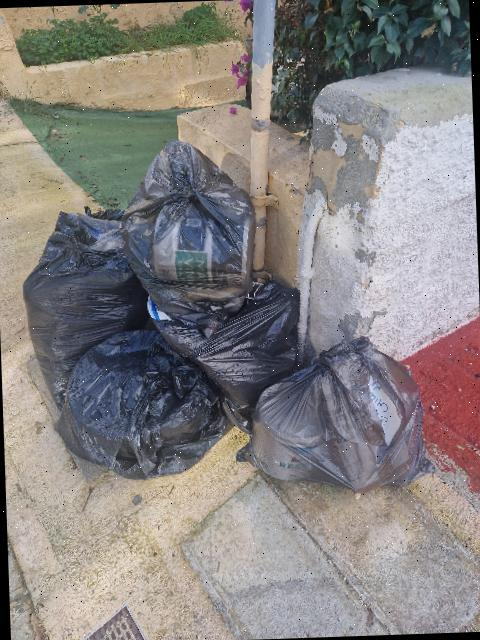Mixed -Black-: (56, 330, 226, 479), (23, 209, 149, 408), (155, 283, 300, 419)
Recyclable -Grey-: (249, 337, 431, 494), (120, 141, 255, 336)
